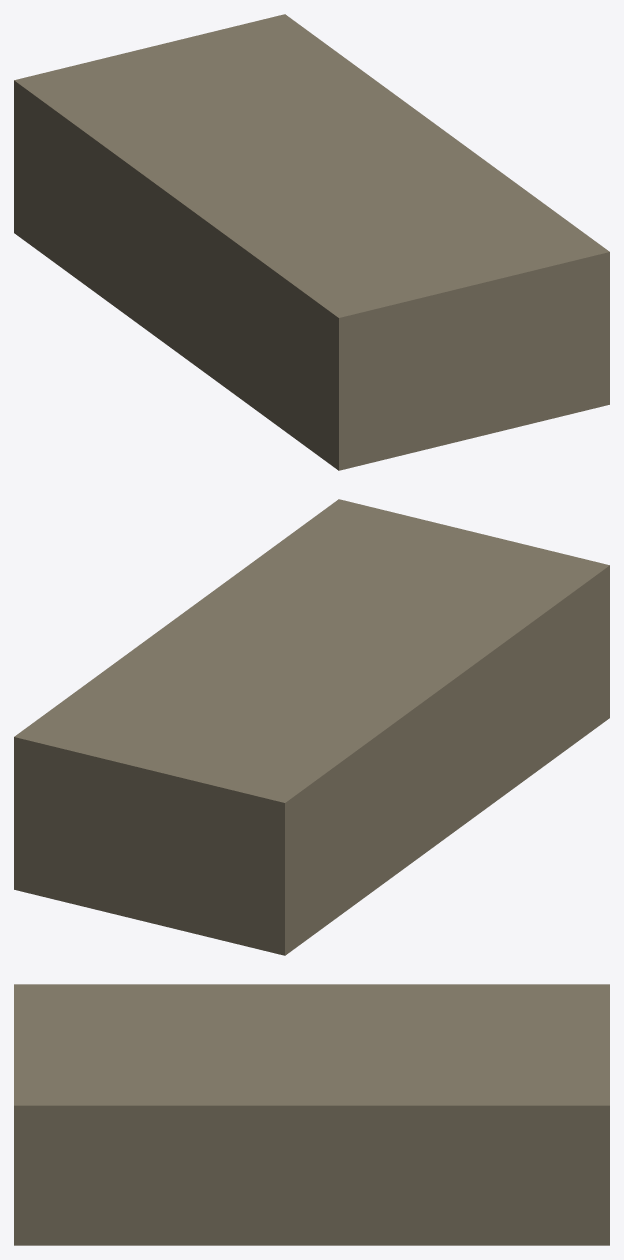
Rendered from MetalCabinetYellow.obj.
3 views of the same model, one above another, from view 1: azimuth 30°, elevation 25°; view 2: azimuth 150°, elevation 25°; view 3: azimuth 270°, elevation 25° (orthographic). The views are drawn at different scales.
Parts seen in each view (by area): view 1: MetalCabinetYellow; view 2: MetalCabinetYellow; view 3: MetalCabinetYellow.
Part boxes in pixels (left/top/right/bottom): MetalCabinetYellow: left=14, top=14, right=609, bottom=470; MetalCabinetYellow: left=14, top=499, right=609, bottom=955; MetalCabinetYellow: left=14, top=984, right=609, bottom=1245.
Size of the model in its own units: 0.8076 by 0.4487 by 1.68.
1 material, 1 textured.
